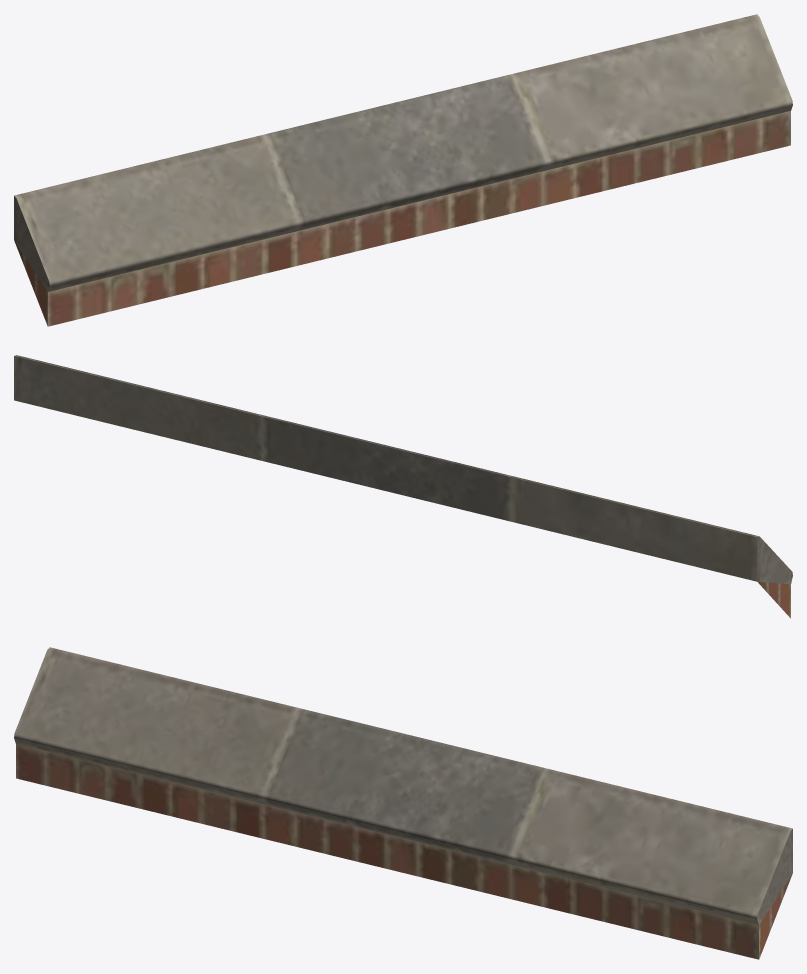
The model's file is roof.brick.top.line.glb.
3 renders of one model, top to bottom at view 1: azimuth 30°, elevation 25°; view 2: azimuth 150°, elevation 25°; view 3: azimuth 330°, elevation 25°, orthographic.
Visible parts, largest first — view 1: model; view 2: model; view 3: model.
Boxes of the visible parts, bbox=[...] form: model: bbox=[14, 14, 792, 326]; model: bbox=[14, 355, 792, 618]; model: bbox=[14, 647, 792, 959].
Size of the model in its own units: 3 by 0.4105 by 0.25.
Materials: 1 (1 with a texture image).
